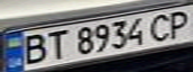3: (109, 18, 133, 51)
4: (124, 15, 151, 46)
8: (72, 24, 96, 56)
9: (90, 21, 115, 53)
B: (15, 32, 51, 66)
C: (145, 11, 178, 42)
P: (163, 8, 193, 39)
T: (42, 28, 69, 61)
